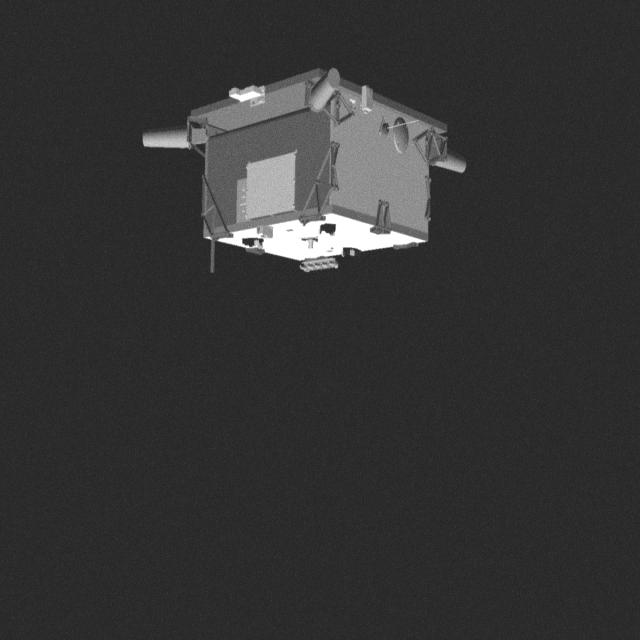medium_debris: (128, 54, 470, 284)
